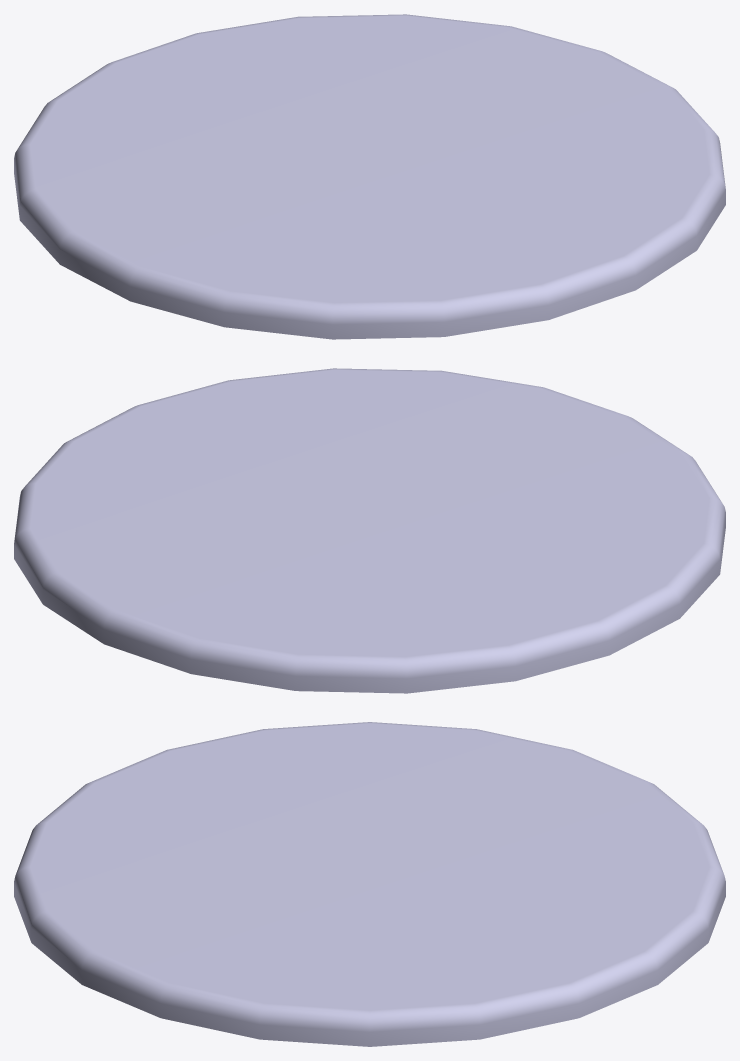
Rendered from plate2.fbx.
3 renders of one model, top to bottom at view 1: azimuth 30°, elevation 25°; view 2: azimuth 150°, elevation 25°; view 3: azimuth 270°, elevation 25°, orthographic.
Parts seen in each view (by area): view 1: plate2; view 2: plate2; view 3: plate2.
Part boxes in pixels (x1,y1,x2,y2): plate2: (14, 14, 725, 339); plate2: (14, 368, 725, 693); plate2: (14, 722, 725, 1046).
Bounding box in the file's own units: 22.49 × 1.03 × 22.49.
